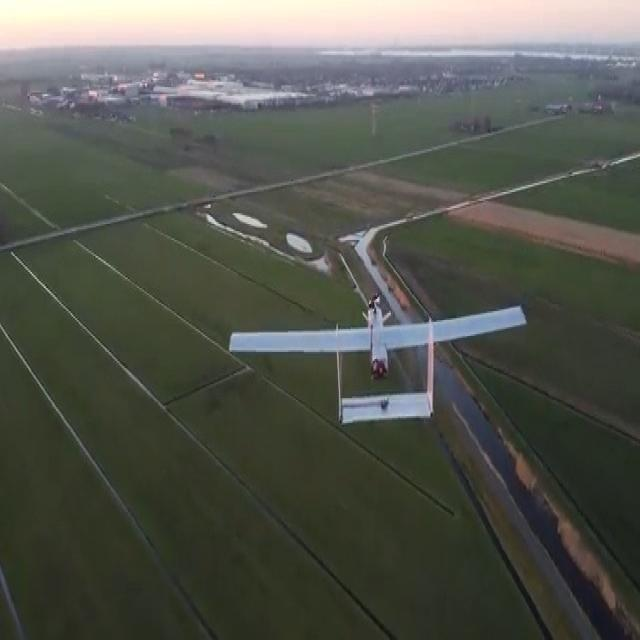iha: (235, 297, 525, 429)
